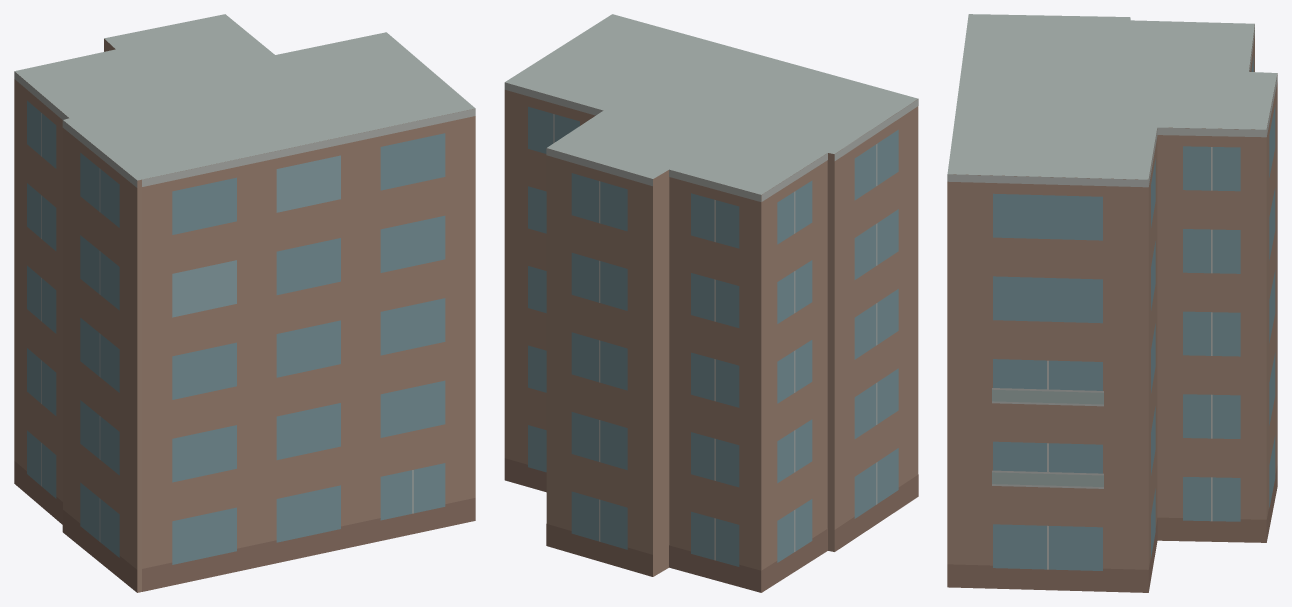
The model's file is survey-upis-32930744.glb.
3 views of the same model, side by side, from view 1: azimuth 30°, elevation 25°; view 2: azimuth 150°, elevation 25°; view 3: azimuth 270°, elevation 25° (orthographic). The views are drawn at different scales.
Parts seen in each view (by area): view 1: survey-upis-32930744.tmp; view 2: survey-upis-32930744.tmp; view 3: survey-upis-32930744.tmp.
Part boxes in pixels (x1=…): survey-upis-32930744.tmp: x1=14, y1=14, x2=475, y2=592; survey-upis-32930744.tmp: x1=504, y1=14, x2=918, y2=592; survey-upis-32930744.tmp: x1=947, y1=14, x2=1277, y2=592.
Size of the model in its own units: 11.45 by 13.3 by 9.64.
